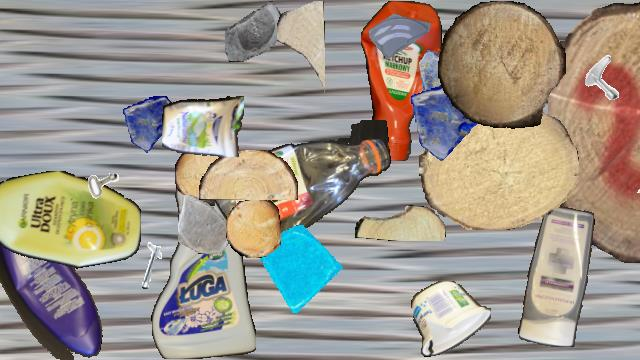glass: (259, 225, 347, 313), (409, 79, 493, 163), (369, 1, 431, 63), (225, 1, 285, 61), (178, 195, 236, 253), (419, 46, 475, 102), (123, 96, 179, 152)
metal: (67, 143, 127, 203), (127, 242, 183, 298), (579, 52, 631, 104), (632, 149, 640, 193)
plastic: (213, 120, 391, 238), (151, 169, 255, 359), (0, 217, 108, 359), (0, 171, 141, 271), (361, 1, 441, 161), (517, 206, 595, 346), (411, 281, 491, 357), (162, 92, 244, 156)
wood: (548, 1, 640, 263), (419, 109, 579, 229), (438, 1, 566, 129), (199, 150, 297, 200), (277, 1, 325, 97), (355, 205, 445, 241), (226, 200, 280, 258), (175, 146, 225, 206)
